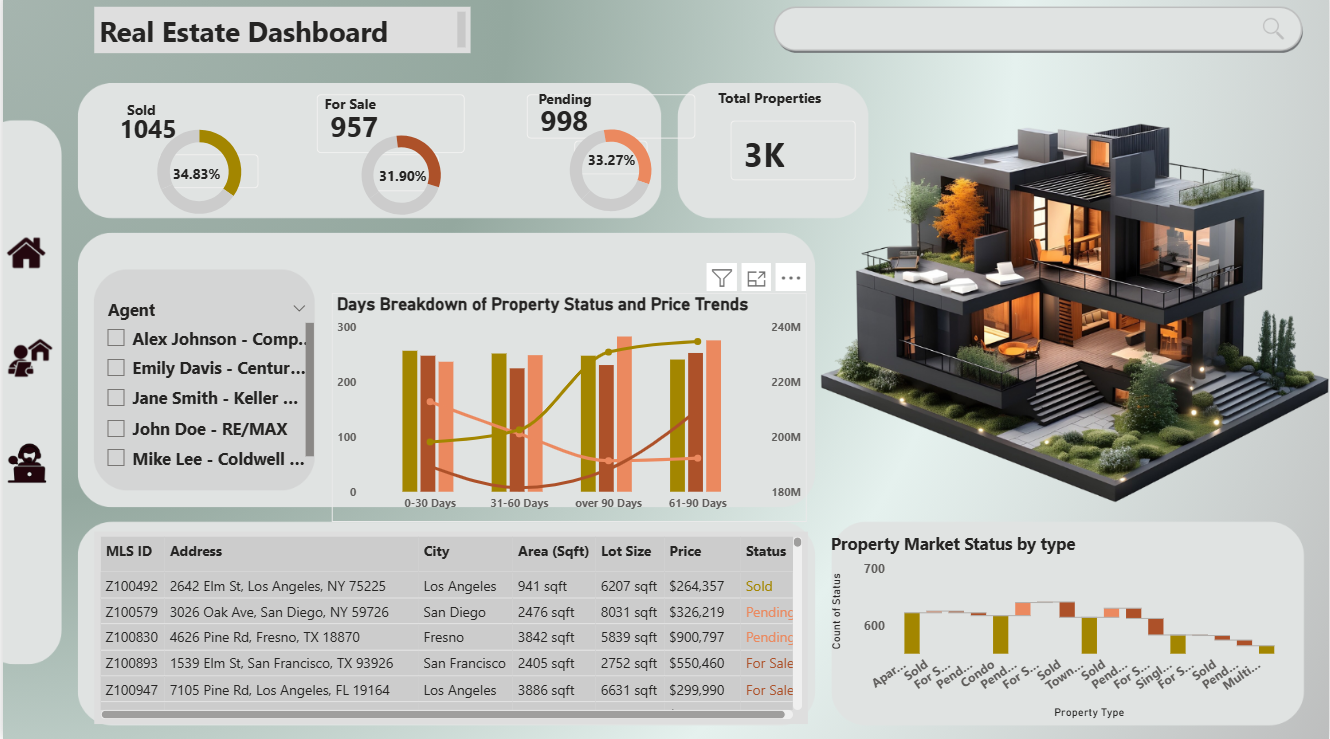

This screenshot's page, from the dashboard's own definition file:
{"tool":"powerbi","page":{"name":"Page 1","canvas":[1280,720],"ordinal":0},"visuals":[{"type":"textbox","box":[88.6,12.9,362.9,31.4],"z":0},{"type":"cardVisual","fields":{"Data":["RealEstate_Dataset.Total_Properties"]},"box":[685.7,105.7,155.7,92.9],"z":1000},{"type":"cardVisual","fields":{"Data":["RealEstate_Dataset.Properties_ForSale"]},"box":[285.7,81.4,177.1,91.4],"z":2000},{"type":"cardVisual","fields":{"Data":["RealEstate_Dataset.Properties_Pending"]},"box":[488.6,81.4,197.1,77.1],"z":3000},{"type":"cardVisual","fields":{"Data":["RealEstate_Dataset.%_Properties_Sold"]},"box":[134.3,138.6,130,67.1],"z":4000},{"type":"cardVisual","fields":{"Data":["RealEstate_Dataset.%_Properties_Pending"]},"box":[534.3,125.7,105.7,67.1],"z":5000},{"type":"donutChart","fields":{"Category":["RealEstate_Dataset.Status"],"Y":["CountNonNull(RealEstate_Dataset.Status)"]},"box":[114.3,117.1,150,111.4],"z":6000},{"type":"cardVisual","fields":{"Data":["RealEstate_Dataset.%_Properties_For_Sale"]},"box":[332.9,138.6,105.7,70],"z":7000},{"type":"donutChart","fields":{"Category":["RealEstate_Dataset.Status"],"Y":["CountNonNull(RealEstate_Dataset.Status)"]},"box":[285.7,122.9,197.1,105.7],"z":8000},{"type":"donutChart","fields":{"Category":["RealEstate_Dataset.Status"],"Y":["CountNonNull(RealEstate_Dataset.Status)"]},"box":[518.6,117.1,135.7,108.6],"z":9000},{"type":"textbox","box":[685.7,87.1,120,35.7],"z":10000},{"type":"textbox","box":[114.3,98.6,67.1,32.9],"z":11000},{"type":"textbox","box":[305.7,92.9,80,32.9],"z":12000},{"type":"textbox","box":[511.4,88.6,75.7,34.3],"z":13000},{"type":"lineClusteredColumnComboChart","title":"Days Breakdown of Property Status and Price Trends","fields":{"Y":["RealEstate_Dataset.Properties_Pending","RealEstate_Dataset.Properties_For_Sale","RealEstate_Dataset.Properties_sold"],"Category":["RealEstate_Dataset.Days_on_Market_Category"],"Y2":["RealEstate_Dataset.Total_Pending_Price","RealEstate_Dataset.Total_Sold_Price","RealEstate_Dataset.Total_Sale_Price"]},"box":[317.1,290,458.6,220],"z":14000},{"type":"tableEx","fields":{"Values":["RealEstate_Dataset.MLS ID","RealEstate_Dataset.Address","RealEstate_Dataset.City","RealEstate_Dataset.Area (Sqft)","RealEstate_Dataset.Lot Size","RealEstate_Dataset.Price","RealEstate_Dataset.Status"]},"box":[88.6,520,688.6,185.7],"z":15000},{"type":"waterfallChart","title":"Property Market Status by type","fields":{"Category":["RealEstate_Dataset.Property Type"],"Breakdown":["RealEstate_Dataset.Status"],"Y":["CountNonNull(RealEstate_Dataset.Status)"]},"box":[794.3,520,447.1,185.7],"z":16000},{"type":"slicer","fields":{"Values":["RealEstate_Dataset.Listing Agent"]},"box":[88.6,290,217.1,174.3],"z":17000},{"type":"textbox","box":[107.1,110,74.3,42.9],"z":17001}]}

Visuals, with their boxes in screenshot pixels (x1, y1, x2, y2), scaled from the page's 1280x720 canvas onto the 1330x739 screenshot:
textbox: 92/13/469/45
cardVisual - RealEstate_Dataset.Total_Properties: 712/108/874/204
cardVisual - RealEstate_Dataset.Properties_ForSale: 297/84/481/177
cardVisual - RealEstate_Dataset.Properties_Pending: 508/84/712/163
cardVisual - RealEstate_Dataset.%_Properties_Sold: 140/142/275/211
cardVisual - RealEstate_Dataset.%_Properties_Pending: 555/129/665/198
donutChart - RealEstate_Dataset.Status x CountNonNull(RealEstate_Dataset.Status): 119/120/275/235
cardVisual - RealEstate_Dataset.%_Properties_For_Sale: 346/142/456/214
donutChart - RealEstate_Dataset.Status x CountNonNull(RealEstate_Dataset.Status): 297/126/502/235
donutChart - RealEstate_Dataset.Status x CountNonNull(RealEstate_Dataset.Status): 539/120/680/232
textbox: 712/89/837/126
textbox: 119/101/188/135
textbox: 318/95/401/129
textbox: 531/91/610/126
"Days Breakdown of Property Status and Price Trends" lineClusteredColumnComboChart: 329/298/806/523
tableEx - RealEstate_Dataset.MLS ID x RealEstate_Dataset.Address: 92/534/808/724
"Property Market Status by type" waterfallChart: 825/534/1290/724
slicer - RealEstate_Dataset.Listing Agent: 92/298/318/477
textbox: 111/113/188/157
